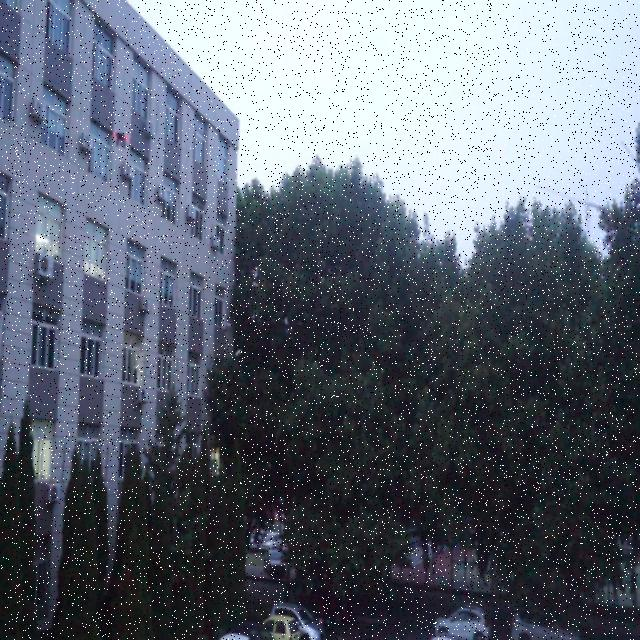UAV: (112, 132, 130, 149)
